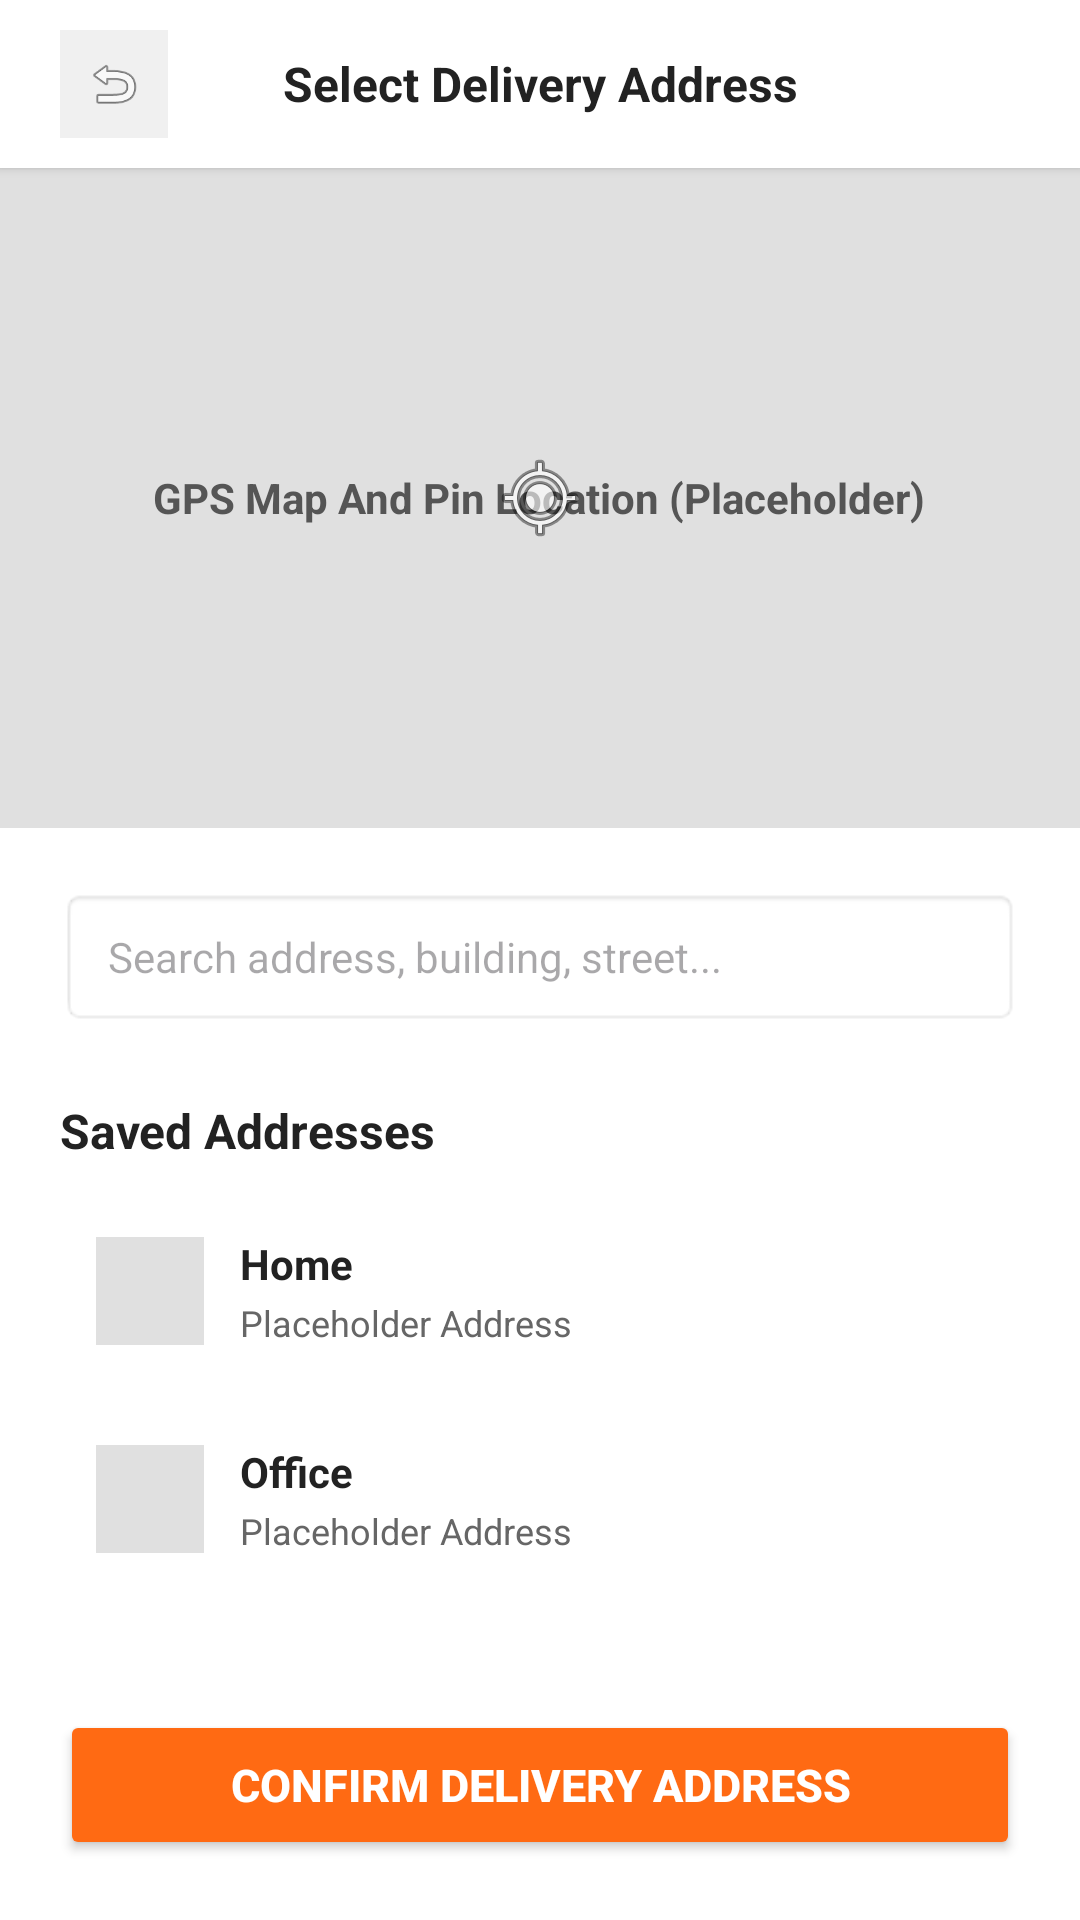

Where icons sit on this 1080 x 1920 app screen, as bbox(x1, y1, x2, y2):
revert: bbox(60, 30, 168, 138)
